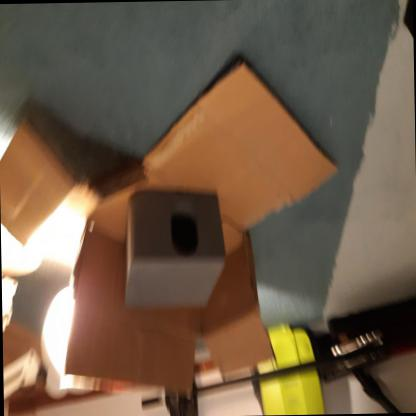CornerCasting: (120, 184, 227, 316)
